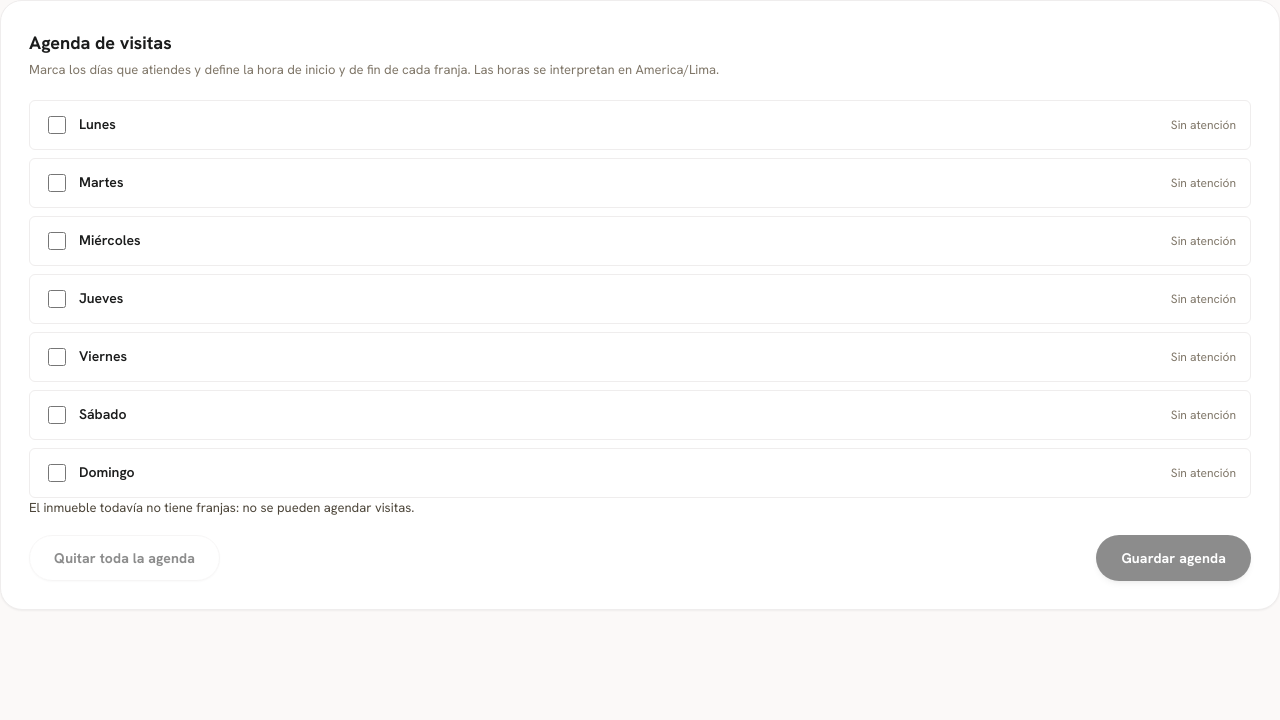
Test: ScheduleManager › Validación antes de enviar › señala la franja cuya hora de inicio no precede a la de fin
Step 1. Click the switch labelled "Lunes" → (57, 124), box [48, 116, 66, 134]
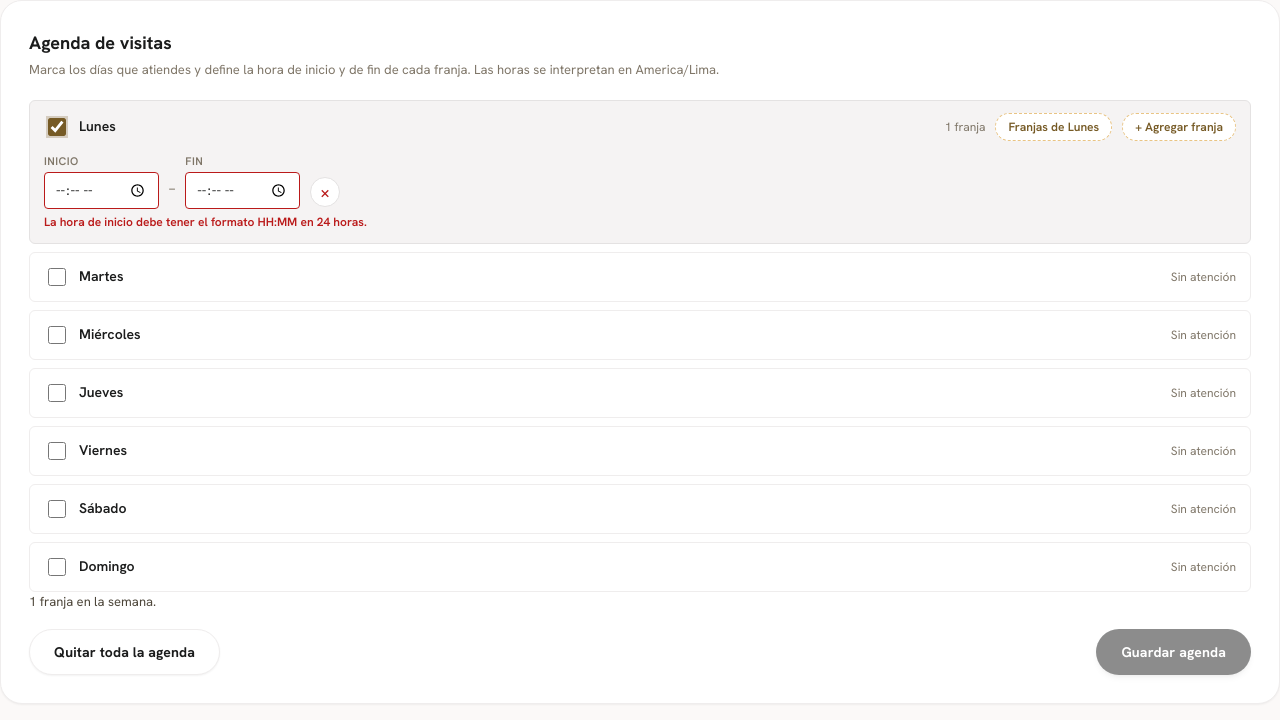
Step 2. Type "18:00" into the time field named "Franja 1 de Lunes: hora de inicio" → (101, 190), box [44, 172, 159, 209]
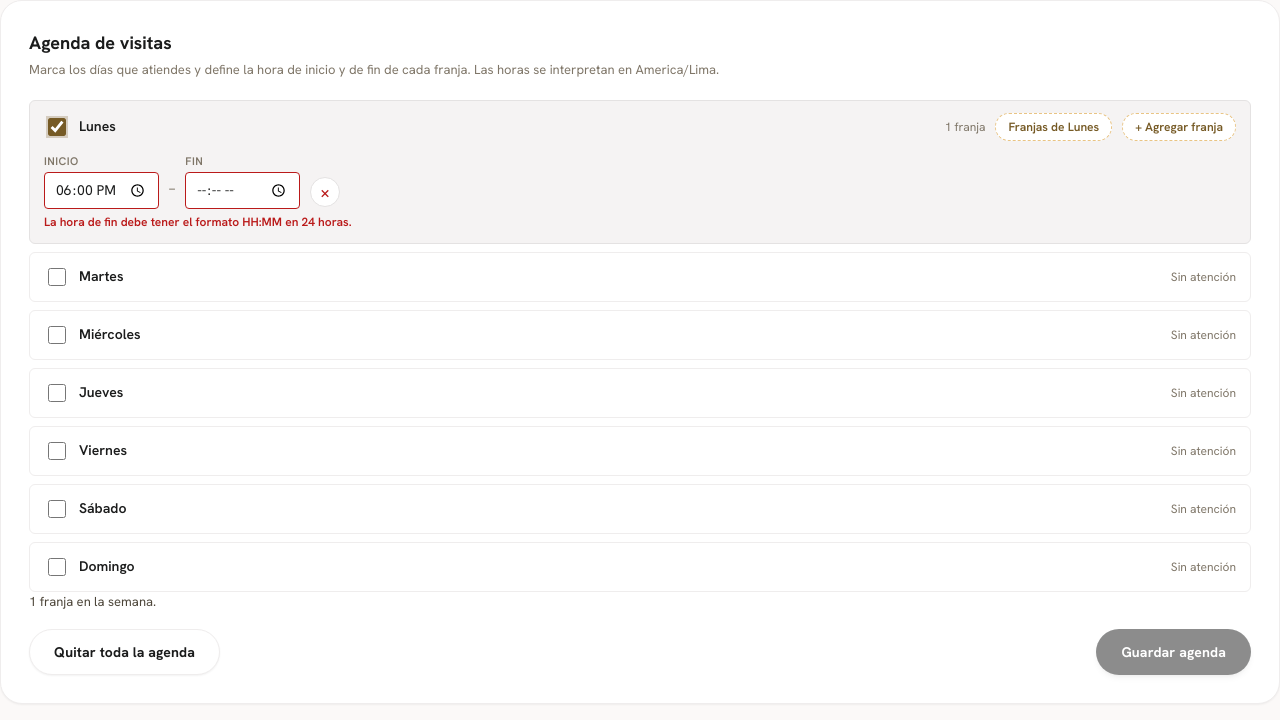
Step 3. Type "12:00" into the time field named "Franja 1 de Lunes: hora de fin" → (243, 190), box [185, 172, 300, 209]
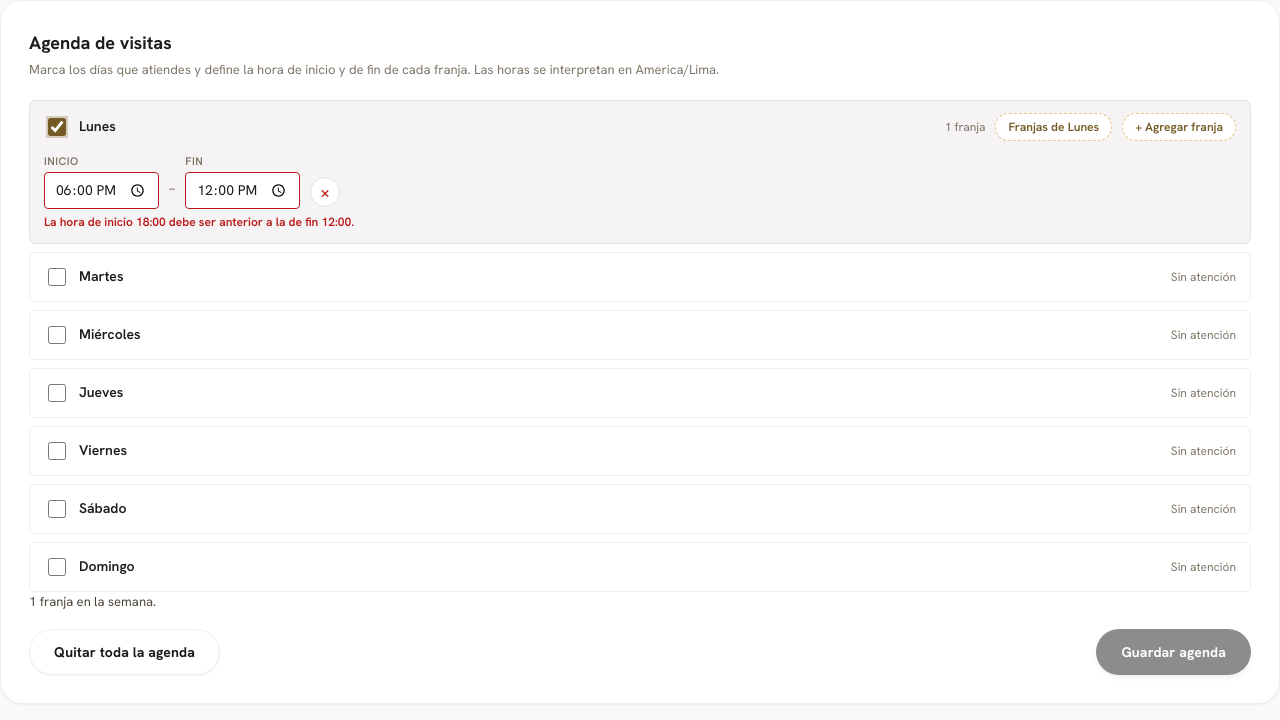
Expected: the message "La hora de inicio 18:00 debe ser anterior a la de fin 12:00." is shown, [44, 214, 354, 230]
